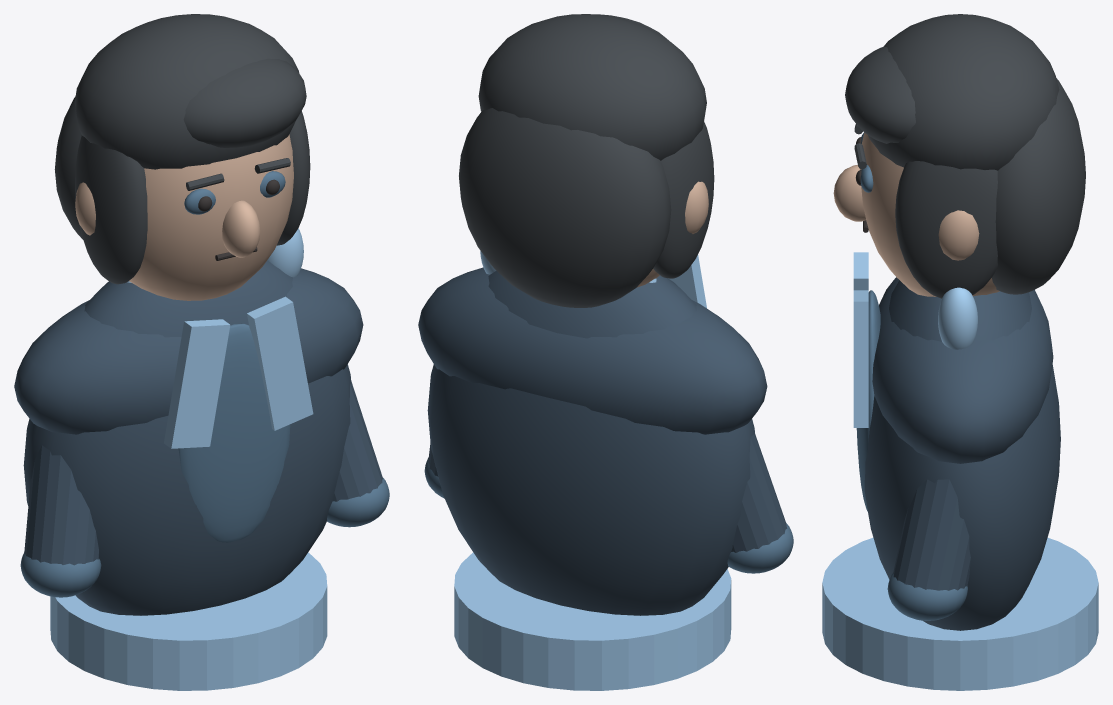
File: trend.glb
The picture shows the model from 3 angles, left to right: view 1: azimuth 30°, elevation 25°; view 2: azimuth 150°, elevation 25°; view 3: azimuth 270°, elevation 25°; orthographic projection.
Visible parts, largest first — view 1: Jacket torso, Bust plinth, Shoulder line, Hair cap, Head, Shirt front, Swept hair, Hair side lock.005, Arm.005, Jacket lapel.004, Jacket lapel.005, Arm (+7 smaller); view 2: Jacket torso, Rear hair, Shoulder line, Hair cap, Bust plinth, Hair side lock.005, Arm.005, Cuff.005, Ear.005, Jacket lapel.004; view 3: Jacket torso, Bust plinth, Hair cap, Shoulder line, Rear hair, Hair side lock, Arm, Swept hair, Head, Cuff, Jacket lapel.005, Headset ear cup (+4 smaller).
Boxes of the visible parts, x1,y1,x2,y2 form: Jacket torso: (23, 260, 351, 615); Bust plinth: (50, 552, 327, 690); Shoulder line: (14, 268, 363, 434); Hair cap: (74, 14, 299, 169); Head: (129, 134, 293, 300); Shirt front: (178, 323, 290, 542); Swept hair: (183, 58, 306, 147); Hair side lock.005: (75, 135, 147, 284); Arm.005: (24, 445, 98, 565); Jacket lapel.004: (164, 319, 230, 448); Jacket lapel.005: (247, 296, 313, 430); Arm: (333, 381, 382, 501); Jacket torso: (427, 271, 755, 615); Rear hair: (459, 108, 671, 307); Shoulder line: (418, 267, 767, 434); Hair cap: (478, 14, 706, 160); Bust plinth: (454, 552, 731, 690); Hair side lock.005: (653, 121, 714, 278); Arm.005: (731, 434, 787, 552); Cuff.005: (727, 523, 793, 573); Ear.005: (685, 181, 708, 233); Jacket lapel.004: (668, 255, 706, 308); Jacket torso: (864, 280, 1060, 630); Bust plinth: (822, 538, 1098, 690); Hair cap: (868, 14, 1059, 170); Shoulder line: (872, 277, 1053, 463); Rear hair: (992, 78, 1085, 294); Hair side lock: (895, 161, 997, 298); Arm: (893, 479, 970, 590); Swept hair: (845, 46, 915, 143); Head: (860, 133, 999, 296); Cuff: (887, 573, 967, 620); Jacket lapel.005: (853, 290, 868, 427); Headset ear cup: (938, 287, 977, 349).
Bounding box in the file's own units: 1.64 × 2.65 × 1.1.
